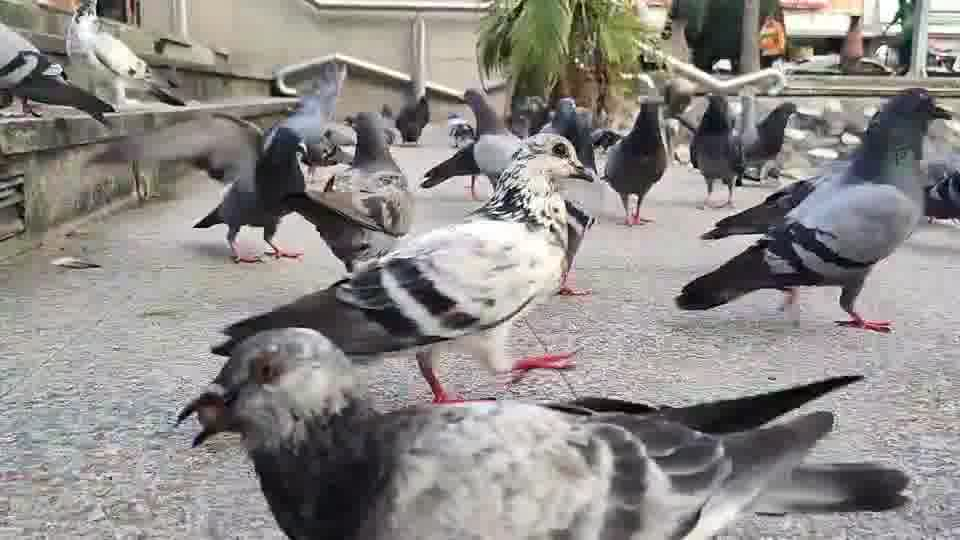Pigeon: (173, 327, 906, 538), (209, 132, 594, 405), (673, 86, 953, 335), (63, 3, 185, 106), (0, 28, 118, 129), (598, 94, 668, 226)
